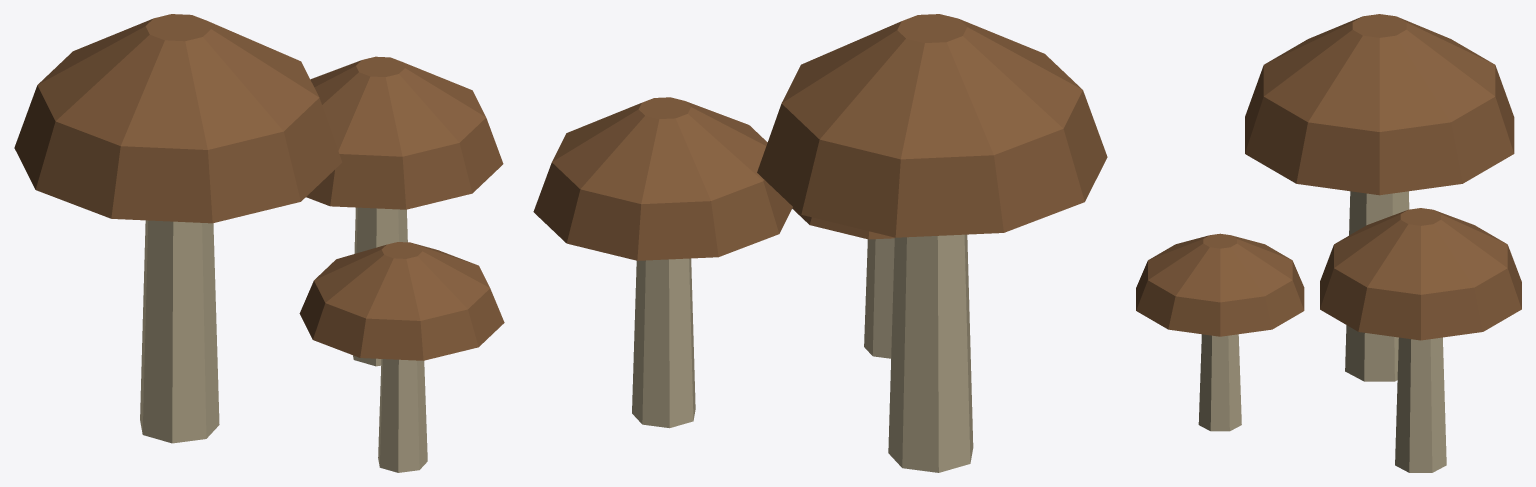
The model's file is mushroom.glb.
3 renders of one model, left to right at view 1: azimuth 30°, elevation 25°; view 2: azimuth 150°, elevation 25°; view 3: azimuth 270°, elevation 25°, orthographic. The views are drawn at different scales.
Visible parts, largest first — view 1: mushroom; view 2: mushroom; view 3: mushroom.
Part boxes in pixels (x1,y1,x2,y2): mushroom: [14, 14, 504, 472]; mushroom: [533, 14, 1107, 472]; mushroom: [1136, 14, 1521, 472].
Size of the model in its own units: 0.4 by 0.32 by 0.3269.
